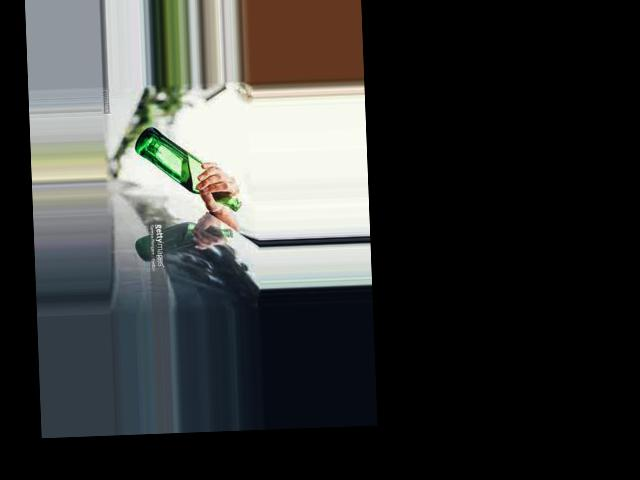beer: (134, 124, 240, 217)
